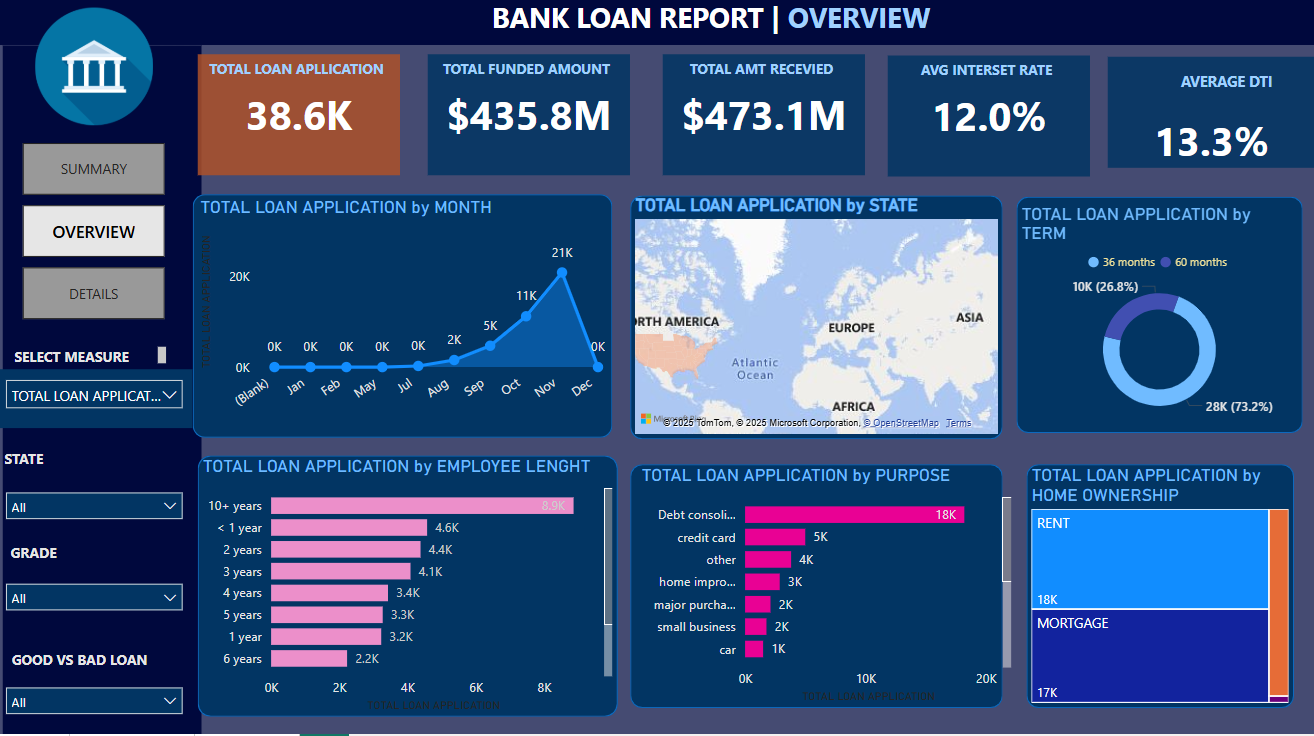

What the dashboard file says about the page in this screenshot:
{"tool":"powerbi","page":{"name":"OVERVIEW","canvas":[1280,720],"ordinal":1},"visuals":[{"type":"shape","box":[0,0,1280.3,55],"z":0},{"type":"shape","box":[196.6,63.9,195.4,117],"z":0,"group":"g1"},{"type":"shape","box":[418.6,63.9,195.4,117],"z":0,"group":"g2"},{"type":"shape","box":[645.4,63.9,195.4,117],"z":0,"group":"g3"},{"type":"shape","box":[862.6,65.1,195.4,117],"z":0,"group":"g4"},{"type":"shape","box":[1074.9,66.4,203.9,107.4],"z":0,"group":"g5"},{"type":"shape","box":[8.4,55.5,191.8,664.7],"z":1000},{"type":"card","fields":{"Values":["financial_loan (1).TOTAL LOAN APPLICATION"]},"box":[196.6,95.3,195.4,53.1],"z":1000,"group":"g1"},{"type":"card","fields":{"Values":["financial_loan (1).TOTAL FUNDED AMOUNT"]},"box":[418.6,95.3,195.4,53.1],"z":1000,"group":"g2"},{"type":"card","fields":{"Values":["financial_loan (1).TOTAL AMOUNT RECEIVED"]},"box":[645.4,95.3,195.4,53.1],"z":1000,"group":"g3"},{"type":"card","fields":{"Values":["financial_loan (1).AVG INTERSET RATE"]},"box":[862.6,96.5,195.4,53.1],"z":1000,"group":"g4"},{"type":"card","fields":{"Values":["financial_loan (1).AVG DTI"]},"box":[1078.5,111.8,193,70],"z":1000,"group":"g5"},{"type":"textbox","box":[413.8,4.8,556.2,47.1],"z":2000},{"type":"textbox","box":[191.8,63.9,200.3,31.4],"z":2000,"group":"g1"},{"type":"textbox","box":[413.8,63.9,200.3,31.4],"z":2000,"group":"g2"},{"type":"textbox","box":[640.6,63.9,200.3,31.4],"z":2000,"group":"g3"},{"type":"textbox","box":[857.8,65.1,200.3,31.4],"z":2000,"group":"g4"},{"type":"textbox","box":[1098.9,75.8,181.1,37.7],"z":2000,"group":"g5"},{"type":"textbox","box":[790.2,225.6,308.8,9.7],"z":2000,"group":"g6"},{"type":"textbox","box":[10.6,341.7,160.5,26.5],"z":2000,"group":"g10"},{"type":"textbox","box":[1,440.6,66.4,35],"z":2000,"group":"g7"},{"type":"textbox","box":[10.6,531.1,66.4,33.8],"z":2000,"group":"g8"},{"type":"textbox","box":[8.6,634.7,165.3,37.4],"z":2000,"group":"g9"},{"type":"group","id":"g1","title":"Group 1","box":[191.8,63.9,200.3,117],"z":3000},{"type":"group","id":"g2","title":"Group 1","box":[413.8,63.9,200.3,117],"z":4000},{"type":"group","id":"g3","title":"Group 1","box":[640.6,63.9,200.3,117],"z":5000},{"type":"shape","box":[191.8,199.1,405,235],"z":6000},{"type":"group","id":"g4","title":"Group 1","box":[857.8,65.1,200.3,117],"z":7000},{"type":"group","id":"g5","title":"Group 1","box":[1074.9,66.4,205.1,115.8],"z":8000},{"type":"group","id":"g6","title":"Group 1","box":[790.2,225.6,308.8,9.7],"z":9000},{"type":"slicer","fields":{"Values":["financial_loan (1).address_state"]},"box":[1,476.8,190.6,51.9],"z":10000},{"type":"group","id":"g7","title":"Group 1","box":[1,440.6,66.4,35],"z":11000},{"type":"slicer","fields":{"Values":["financial_loan (1).grade"]},"box":[1,564.9,190.6,55.5],"z":12000},{"type":"group","id":"g8","title":"Group 1","box":[10.6,531.1,66.4,33.8],"z":13000},{"type":"slicer","fields":{"Values":["financial_loan (1).good vs bad loan"]},"box":[1,665,190.6,51.9],"z":14000},{"type":"group","id":"g9","title":"Group 1","box":[8.6,634.7,165.3,37.4],"z":15000},{"type":"slicer","fields":{"Values":["SELECT MEASURE.SELECT MEASURE"]},"box":[1,368.2,190.6,56.7],"z":16000},{"type":"group","id":"g10","title":"Group 1","box":[10.6,341.7,160.5,26.5],"z":17000},{"type":"shape","box":[614.1,200.3,359.5,235.3],"z":18000},{"type":"areaChart","fields":{"Y":["financial_loan (1).TOTAL LOAN APPLICATION"],"Category":["dates table.month"]},"box":[194.2,201.5,407.8,225.6],"z":19000},{"type":"filledMap","fields":{"X":["financial_loan (1).TOTAL LOAN APPLICATION"],"Category":["financial_loan (1).address_state"]},"box":[614.1,199.1,359.5,236.5],"z":20000},{"type":"shape","box":[986.9,201.5,276.3,228],"z":21000},{"type":"donutChart","fields":{"Y":["financial_loan (1).TOTAL LOAN APPLICATION"],"Category":["financial_loan (1).term"]},"box":[986.9,207.5,276.3,217.2],"z":22000},{"type":"shape","box":[196.6,451.2,405.4,252.1],"z":23000},{"type":"shape","box":[996.5,459.7,258.2,235.3],"z":24000},{"type":"shape","box":[614.1,459.7,359.5,235.3],"z":25000},{"type":"barChart","fields":{"Y":["financial_loan (1).TOTAL LOAN APPLICATION"],"Category":["financial_loan (1).emp_length"]},"box":[196.6,451.2,405.4,252.1],"z":26000},{"type":"barChart","fields":{"Y":["financial_loan (1).TOTAL LOAN APPLICATION"],"Category":["financial_loan (1).purpose"]},"box":[620.1,459.7,366.8,235.3],"z":27000},{"type":"treemap","fields":{"Values":["financial_loan (1).TOTAL LOAN APPLICATION"],"Group":["financial_loan (1).home_ownership"]},"box":[996.5,459.7,258.2,235.3],"z":28000},{"type":"pageNavigator","box":[27.7,149.6,137.5,172.5],"z":28001},{"type":"image","box":[35,13.3,123.1,125.5],"z":28002}]}

Visuals, with their boxes in screenshot pixels (x1, y1, x2, y2), scaled from the page's 1280x720 canvas onto the 1314x736 screenshot:
shape: detection(0, 0, 1313, 56)
shape: detection(202, 65, 402, 185)
shape: detection(430, 65, 630, 185)
shape: detection(663, 65, 863, 185)
shape: detection(886, 67, 1086, 186)
shape: detection(1103, 68, 1313, 178)
shape: detection(9, 57, 206, 735)
card - financial_loan (1).TOTAL LOAN APPLICATION: detection(202, 97, 402, 152)
card - financial_loan (1).TOTAL FUNDED AMOUNT: detection(430, 97, 630, 152)
card - financial_loan (1).TOTAL AMOUNT RECEIVED: detection(663, 97, 863, 152)
card - financial_loan (1).AVG INTERSET RATE: detection(886, 99, 1086, 153)
card - financial_loan (1).AVG DTI: detection(1107, 114, 1305, 186)
textbox: detection(425, 5, 996, 53)
textbox: detection(197, 65, 403, 97)
textbox: detection(425, 65, 630, 97)
textbox: detection(658, 65, 863, 97)
textbox: detection(881, 67, 1086, 99)
textbox: detection(1128, 77, 1313, 116)
textbox: detection(811, 231, 1128, 241)
textbox: detection(11, 349, 176, 376)
textbox: detection(1, 450, 69, 486)
textbox: detection(11, 543, 79, 577)
textbox: detection(9, 649, 179, 687)
"Group 1" group: detection(197, 65, 403, 185)
"Group 1" group: detection(425, 65, 630, 185)
"Group 1" group: detection(658, 65, 863, 185)
shape: detection(197, 204, 613, 444)
"Group 1" group: detection(881, 67, 1086, 186)
"Group 1" group: detection(1103, 68, 1313, 186)
"Group 1" group: detection(811, 231, 1128, 241)
slicer - financial_loan (1).address_state: detection(1, 487, 197, 540)
"Group 1" group: detection(1, 450, 69, 486)
slicer - financial_loan (1).grade: detection(1, 577, 197, 634)
"Group 1" group: detection(11, 543, 79, 577)
slicer - financial_loan (1).good vs bad loan: detection(1, 680, 197, 733)
"Group 1" group: detection(9, 649, 179, 687)
slicer - SELECT MEASURE.SELECT MEASURE: detection(1, 376, 197, 434)
"Group 1" group: detection(11, 349, 176, 376)
shape: detection(630, 205, 999, 445)
areaChart - financial_loan (1).TOTAL LOAN APPLICATION x dates table.month: detection(199, 206, 618, 437)
filledMap - financial_loan (1).TOTAL LOAN APPLICATION x financial_loan (1).address_state: detection(630, 204, 999, 445)
shape: detection(1013, 206, 1297, 439)
donutChart - financial_loan (1).TOTAL LOAN APPLICATION x financial_loan (1).term: detection(1013, 212, 1297, 434)
shape: detection(202, 461, 618, 719)
shape: detection(1023, 470, 1288, 710)
shape: detection(630, 470, 999, 710)
barChart - financial_loan (1).TOTAL LOAN APPLICATION x financial_loan (1).emp_length: detection(202, 461, 618, 719)
barChart - financial_loan (1).TOTAL LOAN APPLICATION x financial_loan (1).purpose: detection(637, 470, 1013, 710)
treemap - financial_loan (1).TOTAL LOAN APPLICATION x financial_loan (1).home_ownership: detection(1023, 470, 1288, 710)
pageNavigator: detection(28, 153, 170, 329)
image: detection(36, 14, 162, 142)
